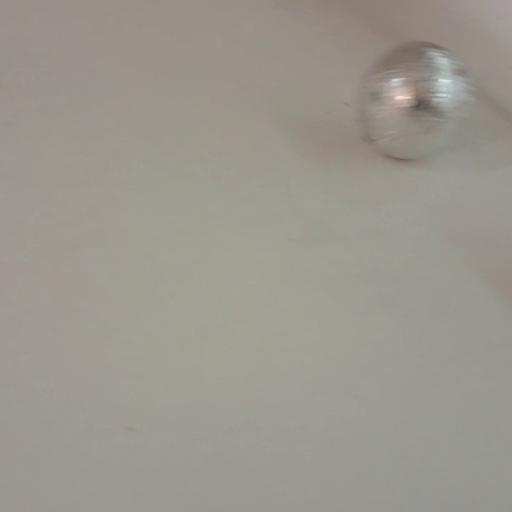alive: (354, 40, 479, 160)
